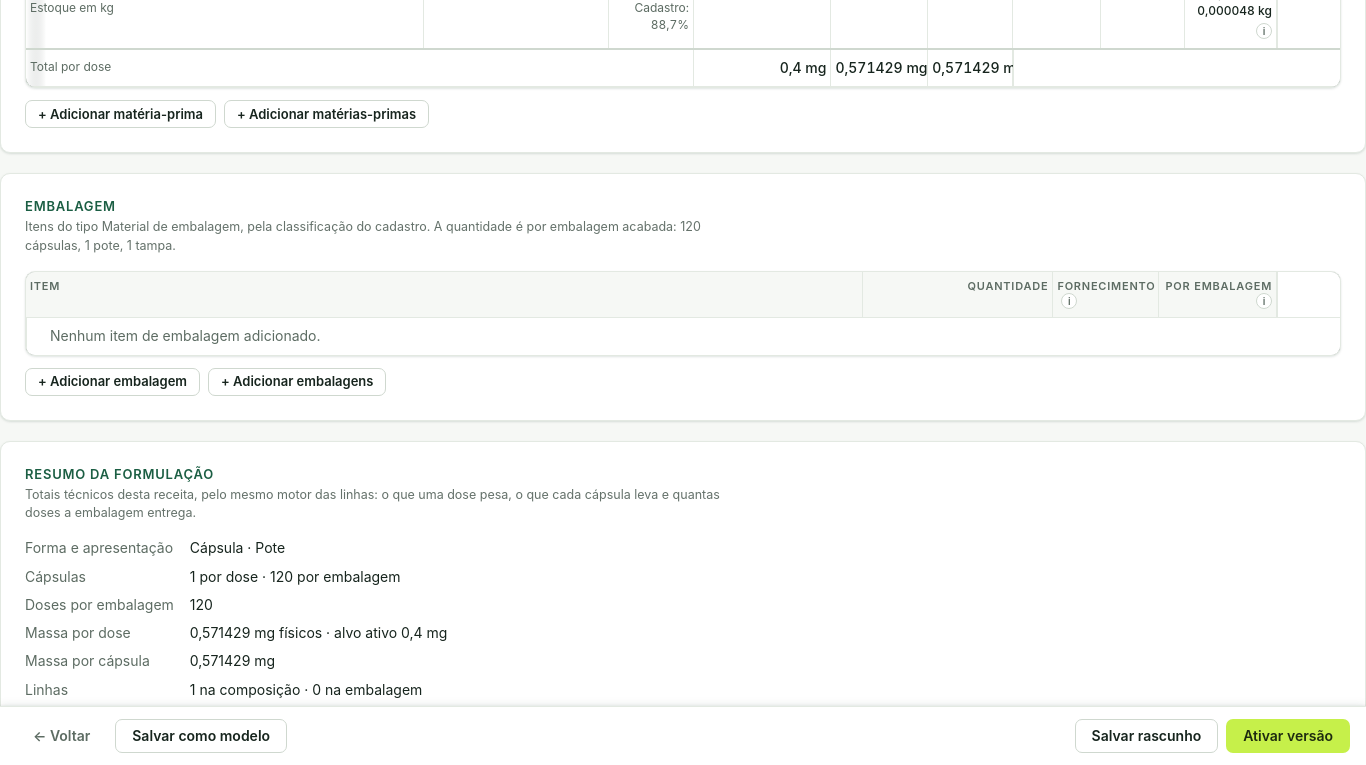
Test: Formulação — Consultar itens na bancada › na Embalagem, a consulta pede embalagem
This screenshot has width=1366, height=765.
(page scrolled)
Click the button "+ Adicionar embalagem".
click(112, 382)  # box x1=25 y1=368 x2=200 y2=396
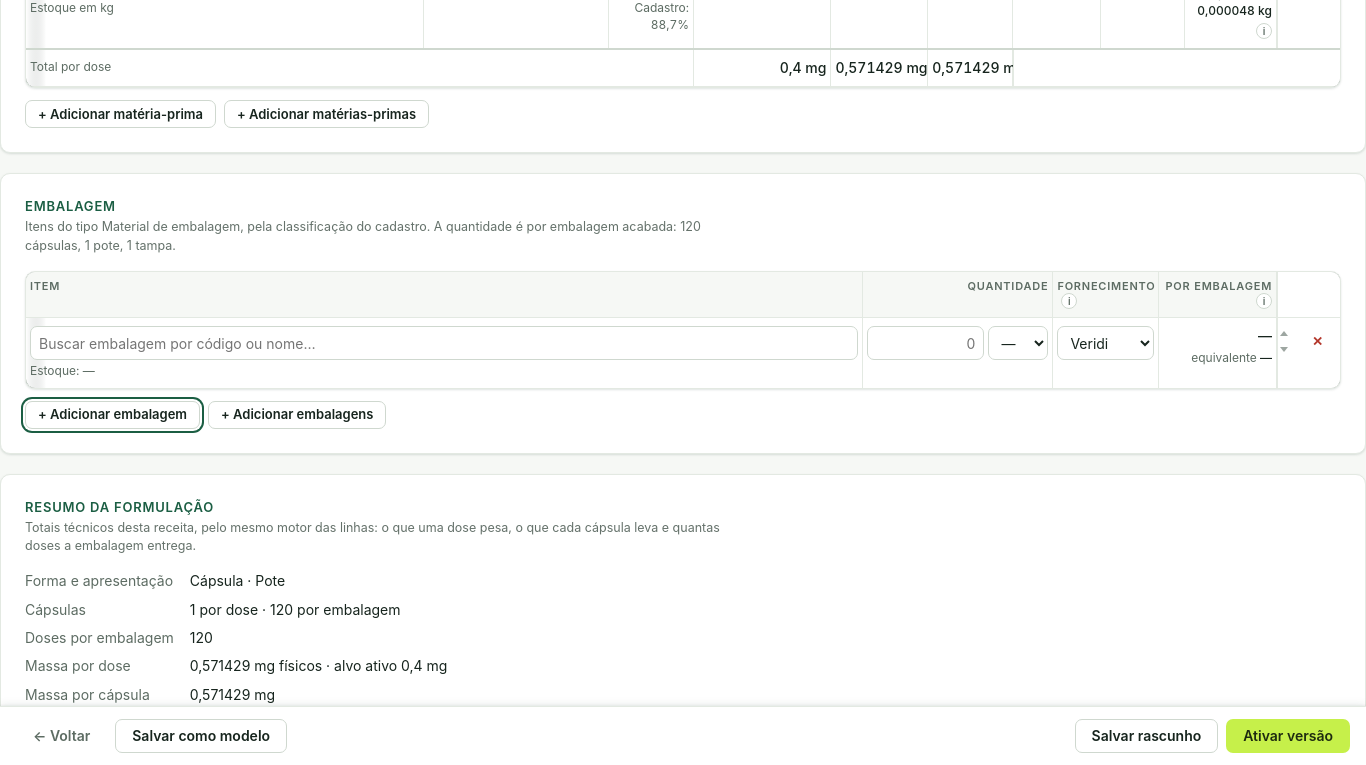
Click the dropdown with placeholder "Buscar embalagem por código ou nome…".
click(444, 344)  # box x1=30 y1=326 x2=858 y2=360
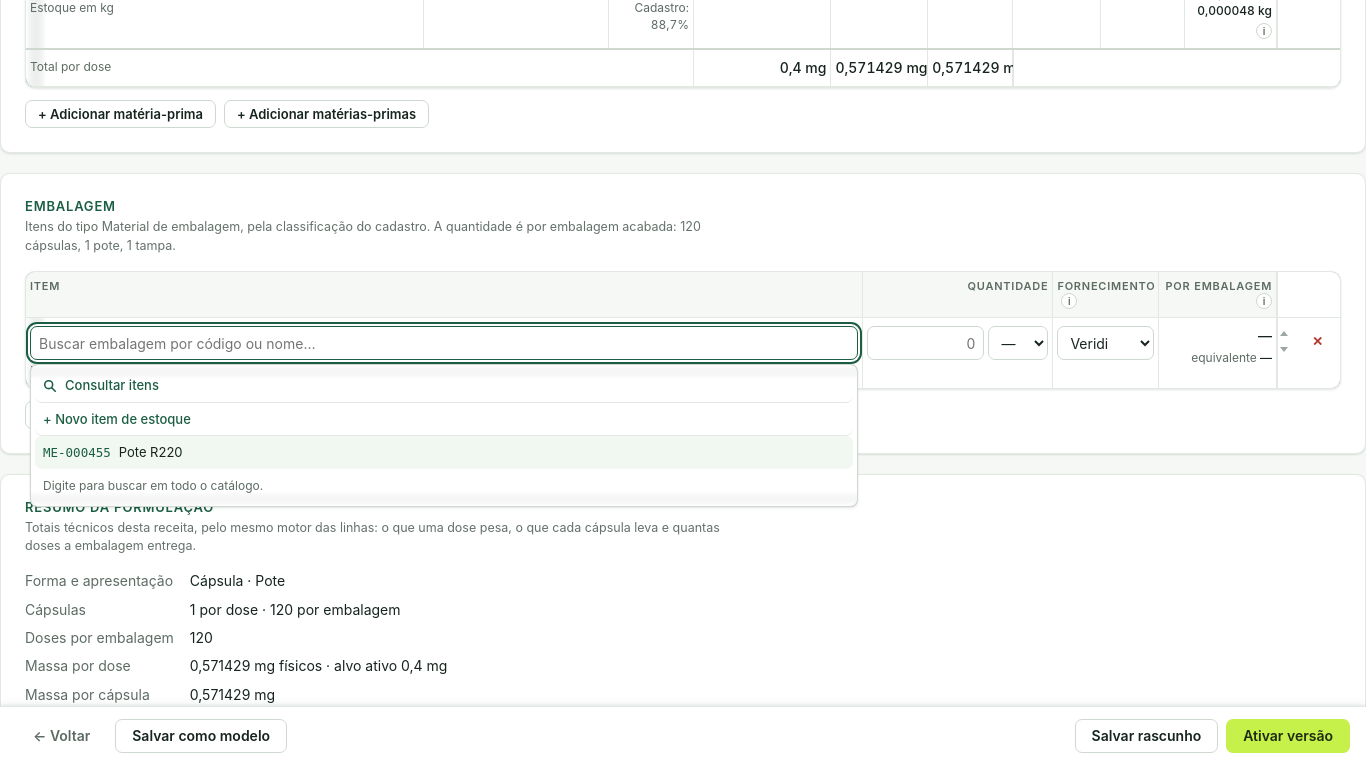
Check: the list is shown, box x1=30 y1=364 x2=858 y2=507
Click the option "Consultar itens".
click(112, 385)  # box x1=35 y1=370 x2=853 y2=403
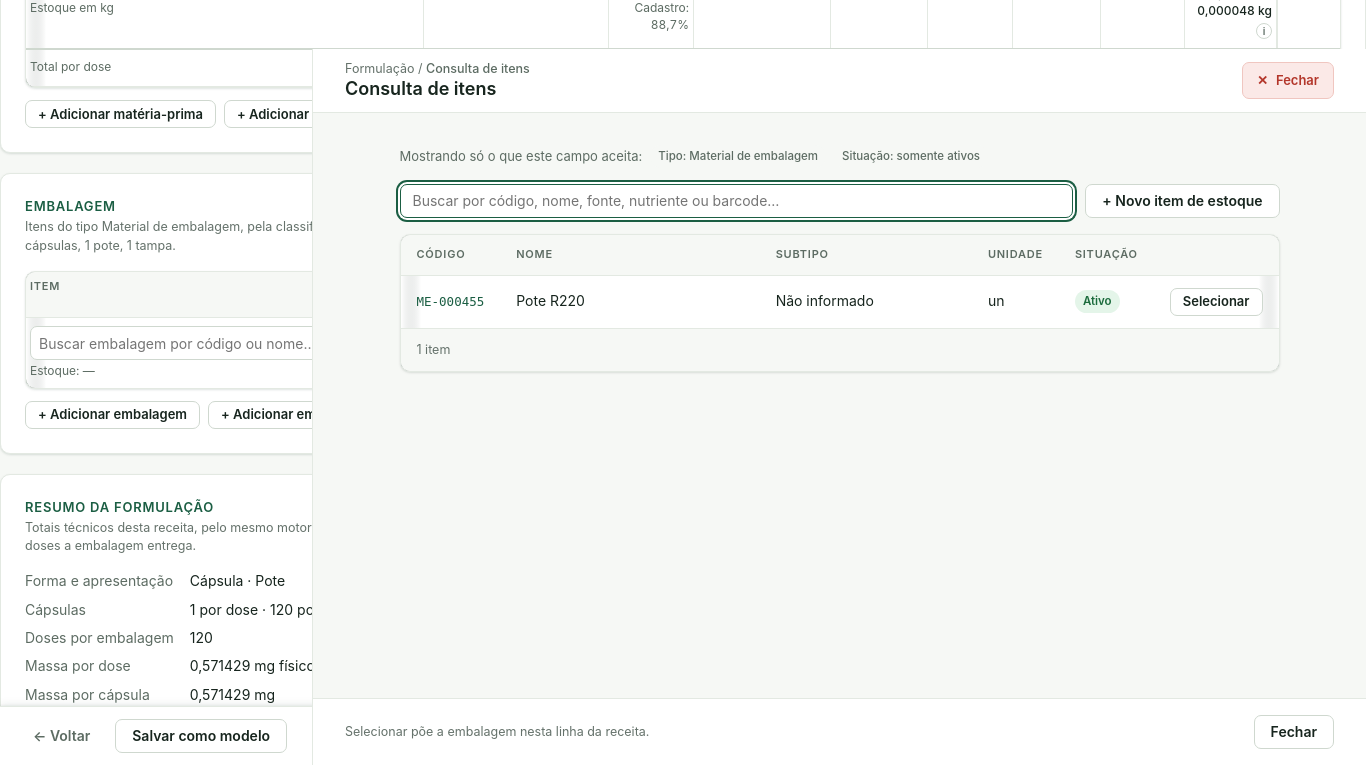
Check: the text "Tipo: Material de embalagem" is shown, box x1=650 y1=145 x2=826 y2=168
Check: the button with aria-label "Selecionar ME-000455" is enabled, box x1=1170 y1=288 x2=1262 y2=316
